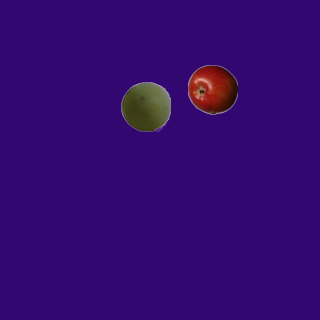Apple Braeburn: (187, 64, 237, 114)
Grape White 4: (120, 81, 170, 131)
